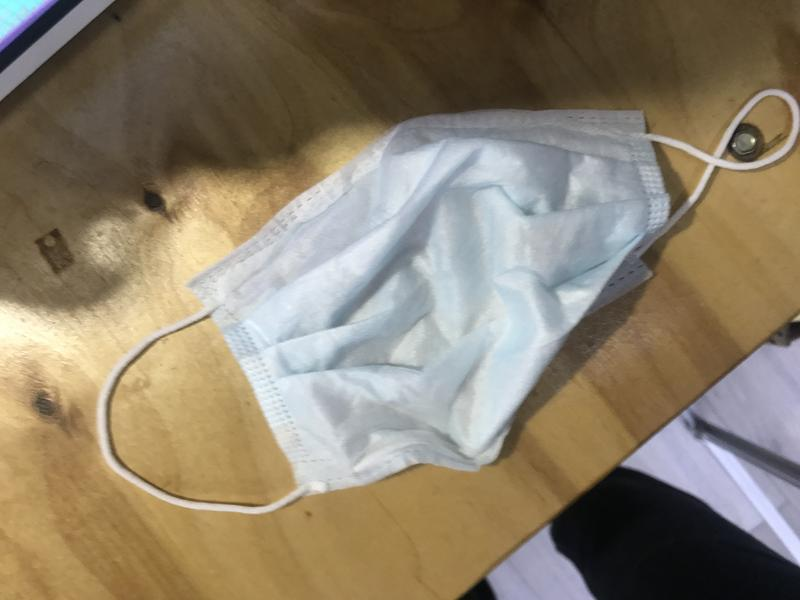medical_mask: (97, 107, 715, 518)
